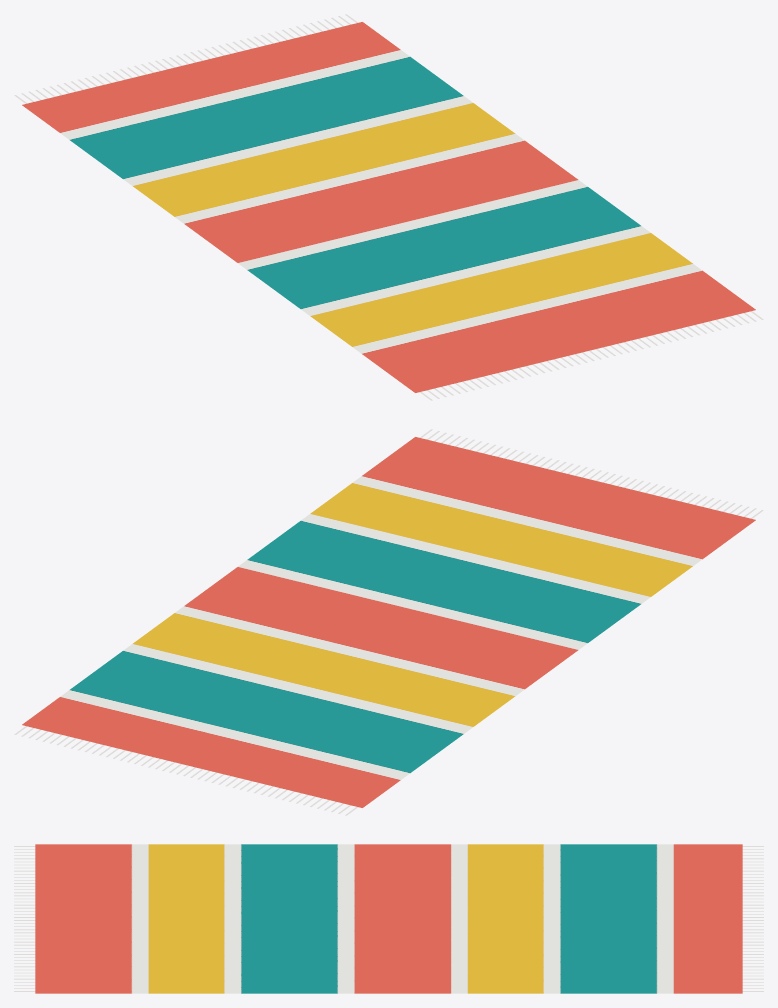
The model's file is Weapon_Towel.fbx.
The picture shows the model from 3 angles, top to bottom: view 1: azimuth 30°, elevation 25°; view 2: azimuth 150°, elevation 25°; view 3: azimuth 270°, elevation 25°; orthographic projection. The views are drawn at different scales.
Visible parts, largest first — view 1: Weapon_Towel, Towel_Fringe; view 2: Weapon_Towel, Towel_Fringe; view 3: Weapon_Towel, Towel_Fringe.
Boxes of the visible parts, box(x1,y1,x2,y2) form: Weapon_Towel: box(22, 22, 755, 392); Towel_Fringe: box(14, 14, 763, 400); Weapon_Towel: box(22, 437, 755, 807); Towel_Fringe: box(14, 429, 763, 815); Weapon_Towel: box(35, 844, 742, 993); Towel_Fringe: box(14, 846, 763, 991).
Size of the model in its own units: 0.75 by 6.95e-08 by 1.59.
